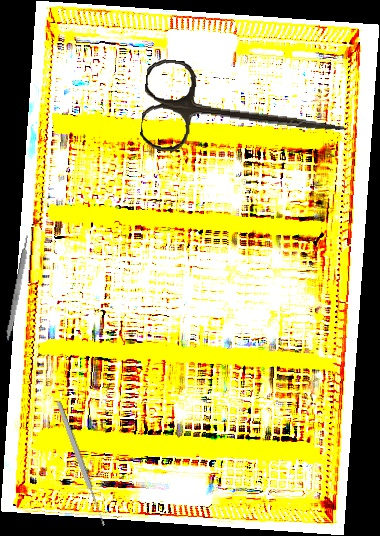Iris Scissors: (138, 57, 351, 170)
Scalpel Handle: (3, 233, 33, 346)
Surgical Spoon: (55, 400, 107, 527)
